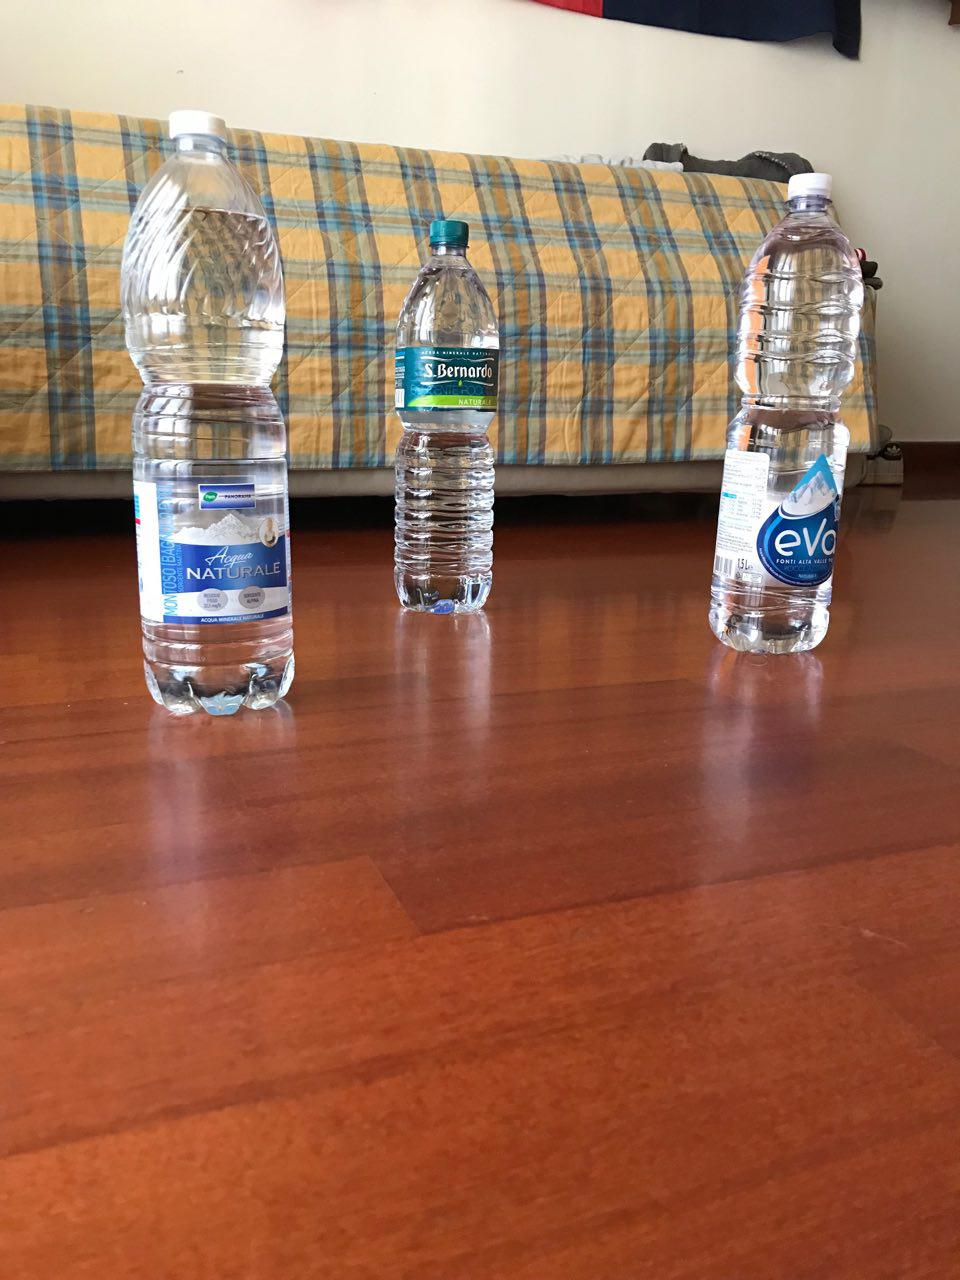san_bernardo: (393, 220, 500, 615)
